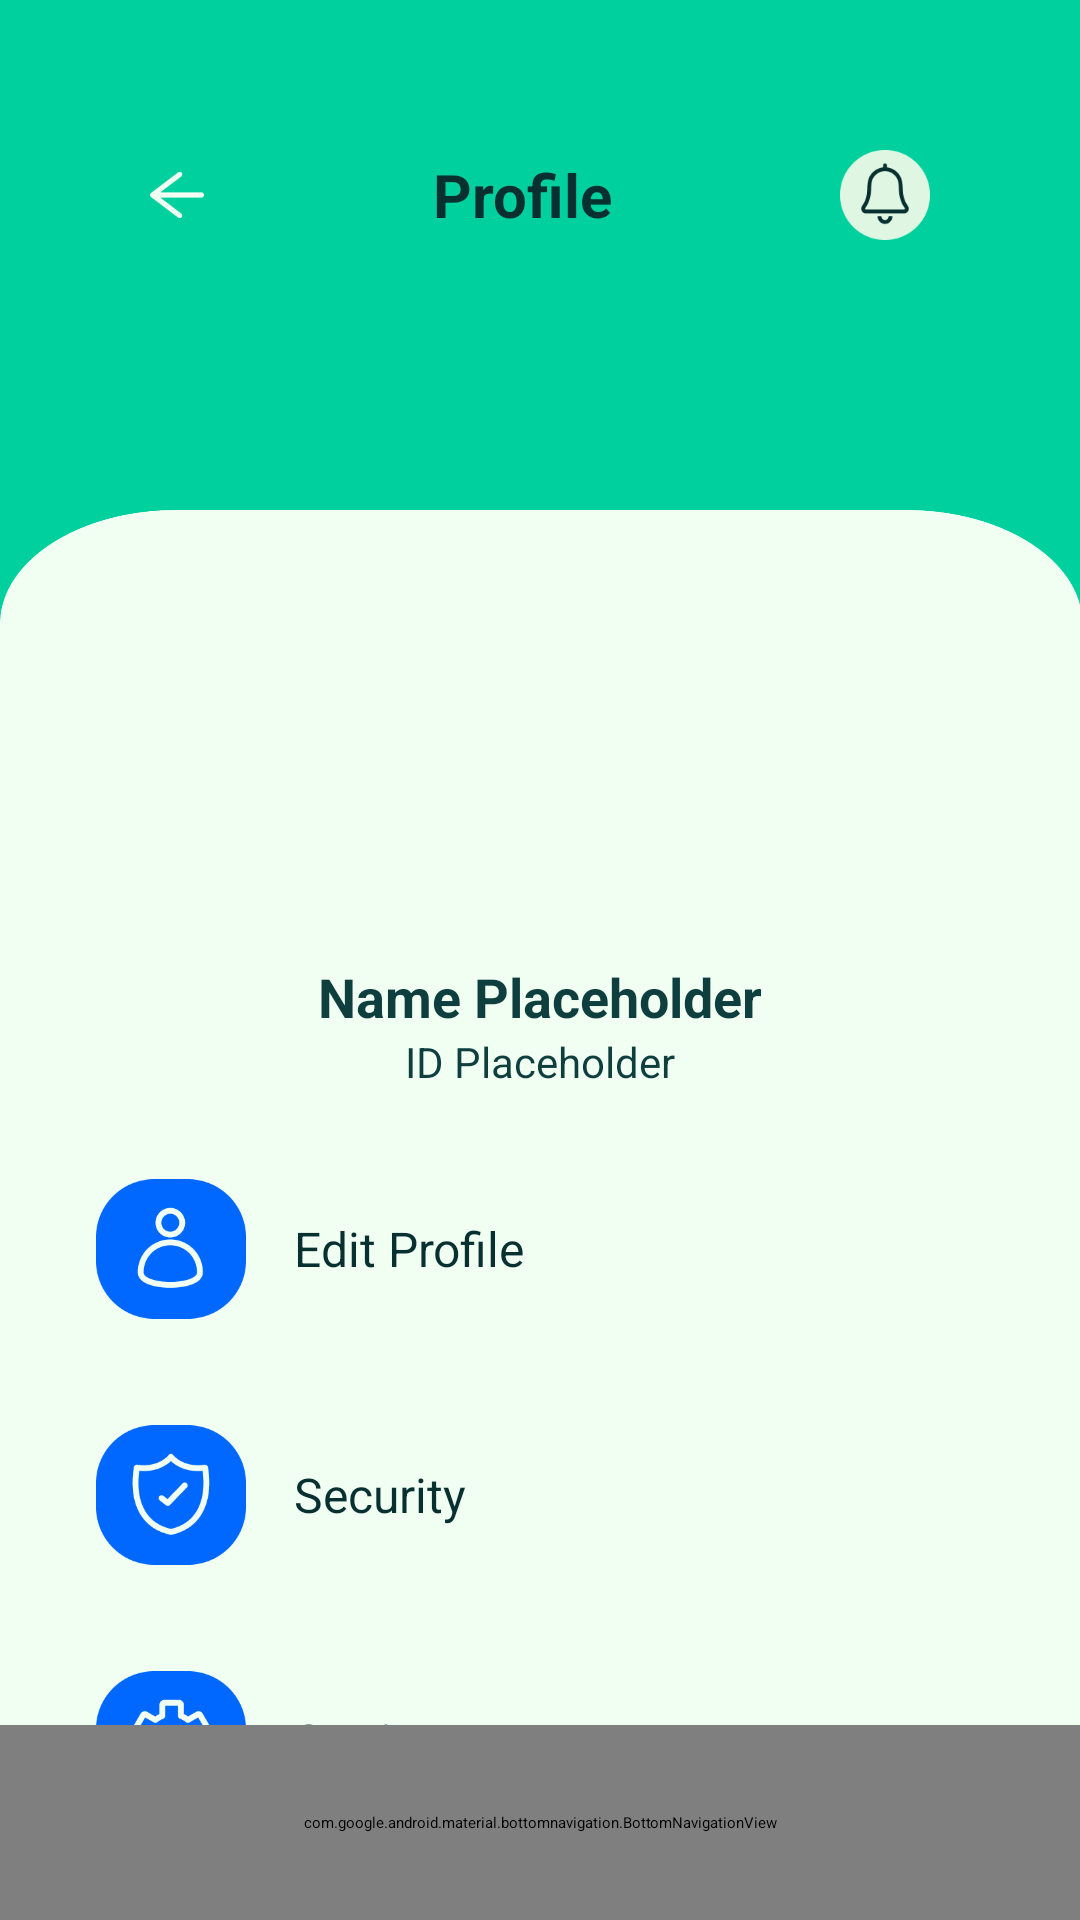

Icons on this 1080*1920 Android screen, each with its box as (x1, y1, x2, y2):
Back Icon: (150, 172, 204, 218)
Notification Icon: (840, 150, 930, 240)
